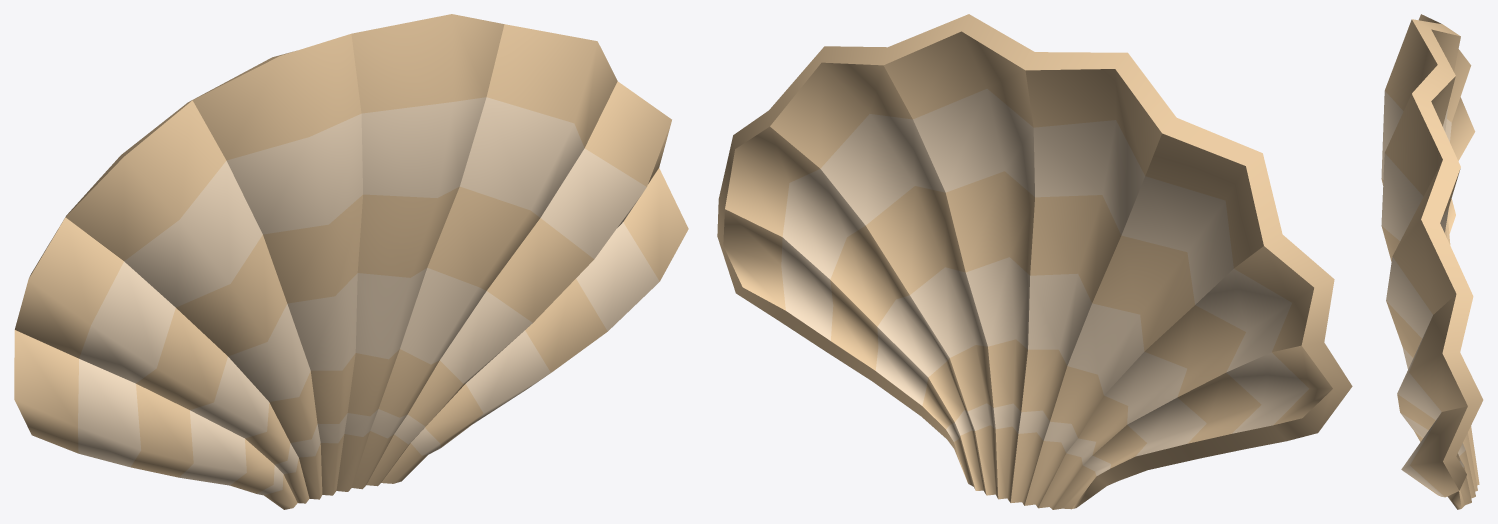
The model's file is Seashell.fbx.
3 views of the same model, side by side, from view 1: azimuth 30°, elevation 25°; view 2: azimuth 150°, elevation 25°; view 3: azimuth 270°, elevation 25° (orthographic). The views are drawn at different scales.
Visible parts, largest first — view 1: Seashell; view 2: Seashell; view 3: Seashell.
Part boxes in pixels (x1,y1,x2,y2): Seashell: [14, 14, 688, 509]; Seashell: [717, 14, 1352, 509]; Seashell: [1381, 14, 1483, 509].
Bounding box in the file's own units: 1.75 × 1.18 × 0.2557.
